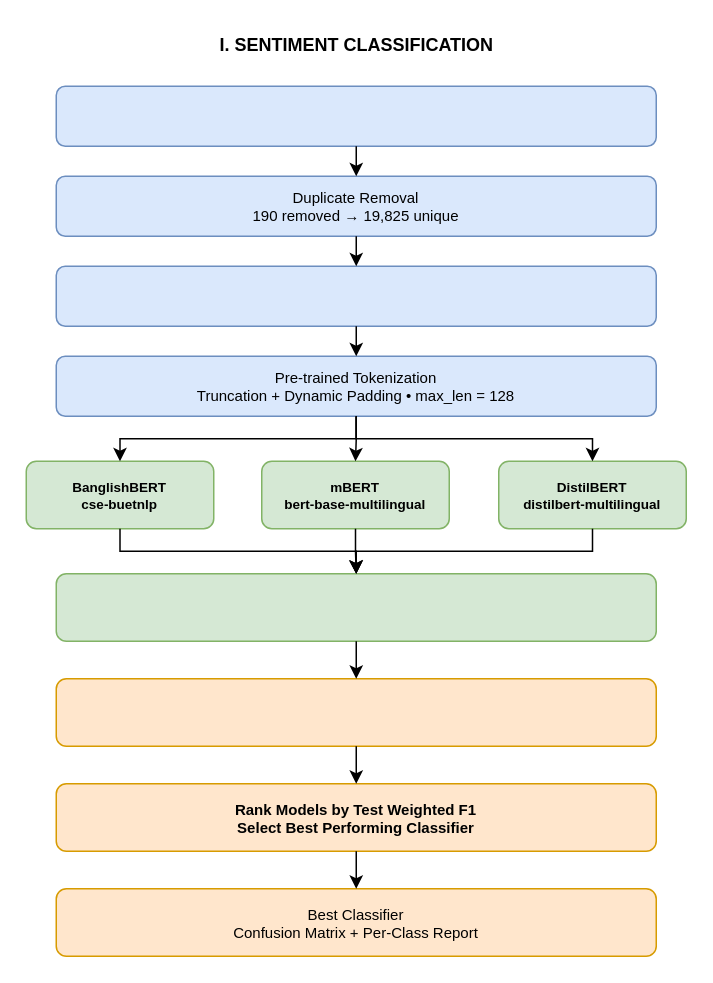
Some shapes in this 713 by 983 pixel diagram are drawn without their labels. Each missing label, with the centre of its shape:
"BnSentMix Raw Data 20,015 pairs • 4 classes" belongs at pixel 355 115.
"Held-Out Test Evaluation Accuracy + Weighted Precision / Recall / F1" belongs at pixel 355 711.
"Save Best Checkpoint for Each Model Highest Validation Weighted F1" belongs at pixel 355 606.
"Stratified Split (seed = 42) Train 14,274 • Val 1,586 • Test 3,965" belongs at pixel 355 295.
